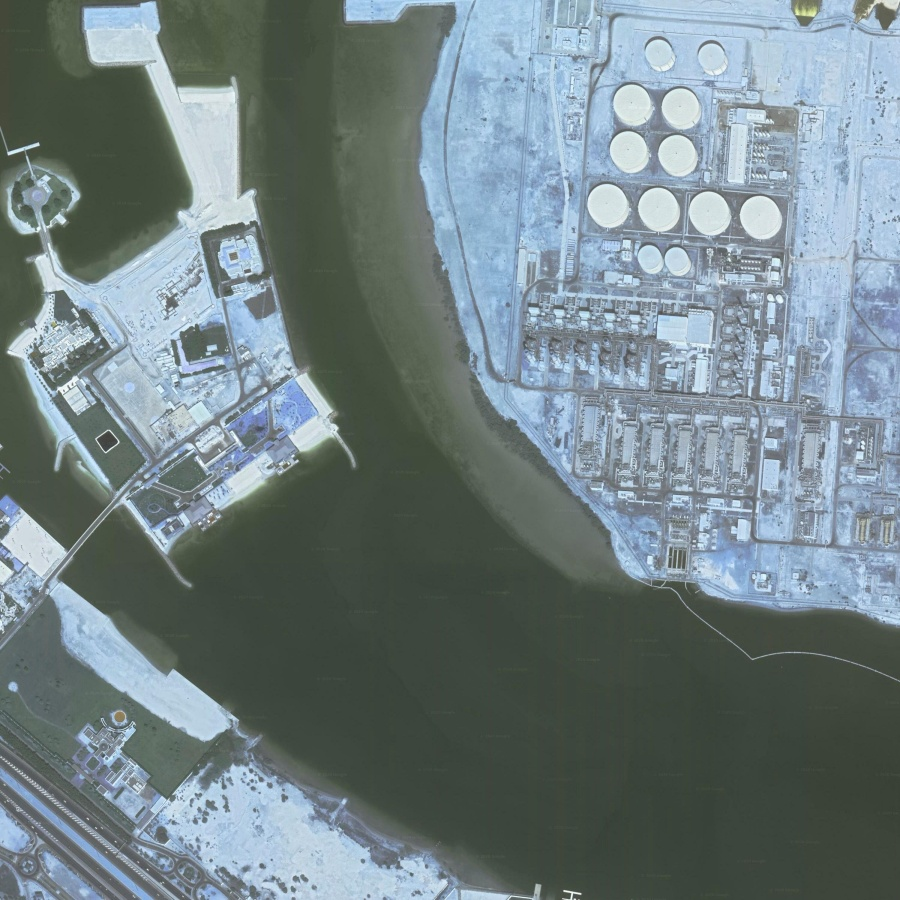PowerPlant: (515, 24, 815, 413)
